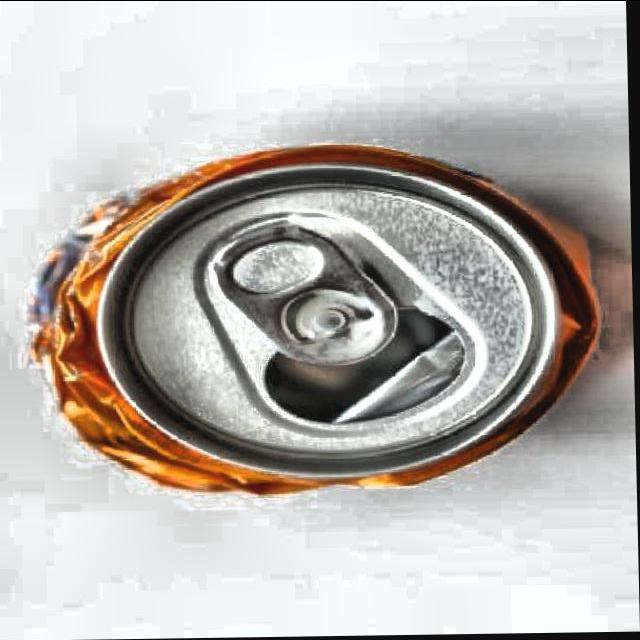litter: (22, 138, 612, 508)
